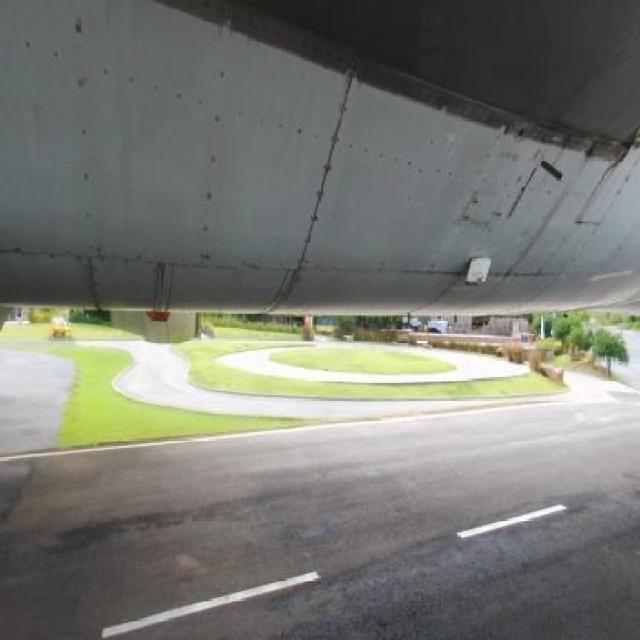Missing-Rivet: (476, 136, 595, 212), (233, 13, 356, 85), (20, 242, 249, 280), (384, 66, 502, 128), (342, 135, 475, 190), (68, 16, 100, 230), (298, 118, 342, 244), (101, 61, 204, 112), (298, 252, 442, 288), (207, 95, 296, 152), (195, 153, 228, 256), (380, 192, 425, 252), (489, 259, 563, 293), (17, 27, 65, 78)
Rust: (506, 159, 614, 278)
